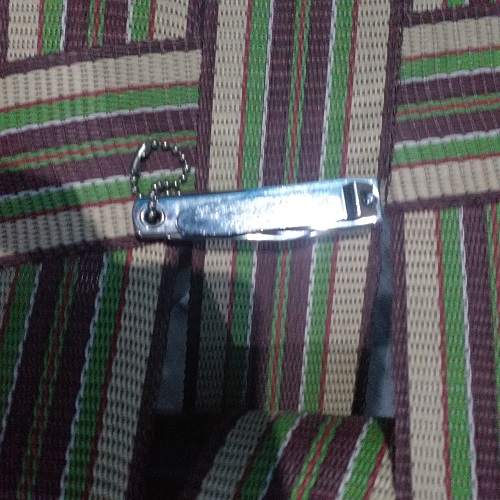nailcutter: (91, 127, 404, 263)
